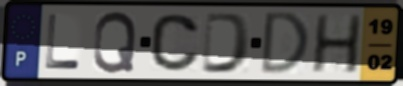C: (149, 12, 203, 74)
D: (258, 10, 312, 77), (199, 11, 253, 76)
H: (309, 13, 364, 76)
L: (44, 12, 84, 71)
Q: (91, 9, 139, 75)
